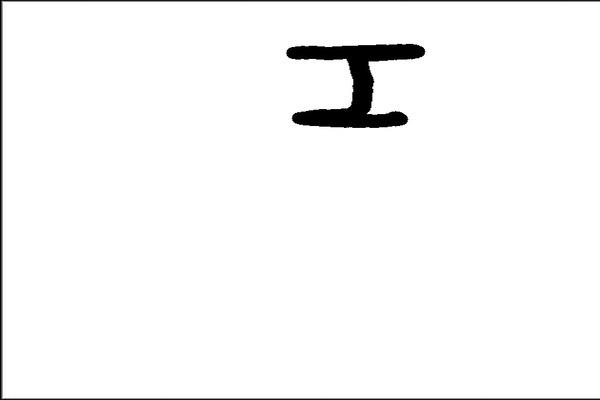i: (281, 32, 429, 131)
